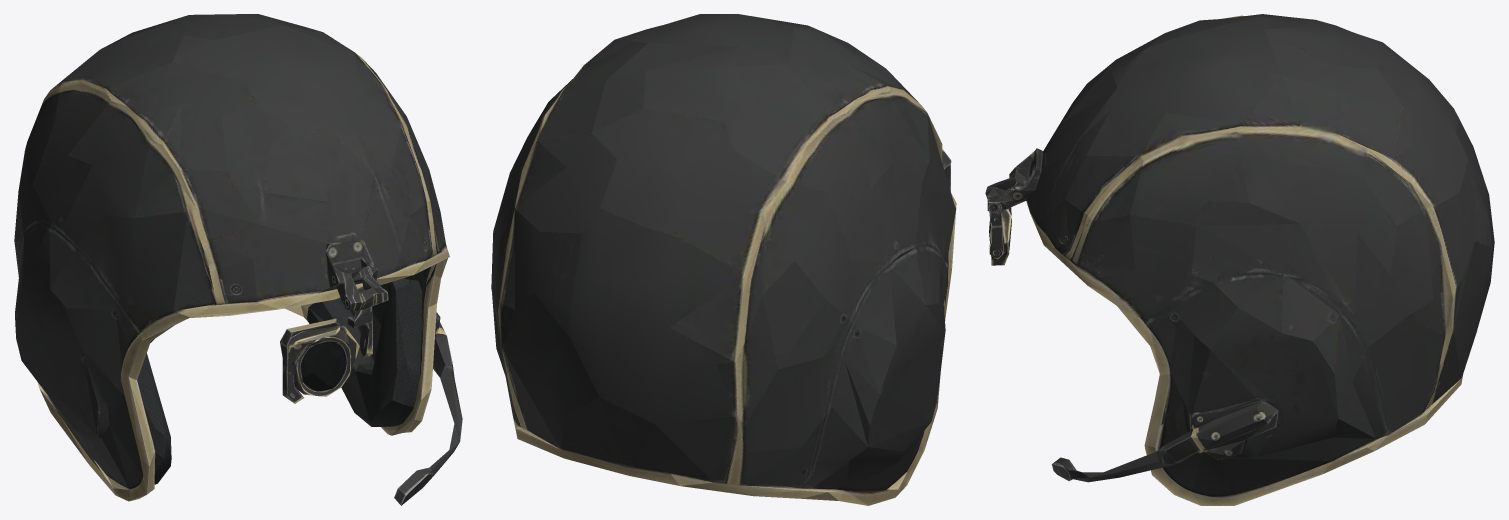
The model's file is banked-headset.glb.
3 renders of one model, left to right at view 1: azimuth 30°, elevation 25°; view 2: azimuth 150°, elevation 25°; view 3: azimuth 270°, elevation 25°, orthographic. The views are drawn at different scales.
Parts seen in each view (by area): view 1: Mesh_0; view 2: Mesh_0; view 3: Mesh_0.
Boxes of the visible parts, bbox=[...] form: Mesh_0: bbox=[14, 14, 462, 505]; Mesh_0: bbox=[491, 14, 956, 505]; Mesh_0: bbox=[985, 14, 1494, 505].
Bounding box in the file's own units: 0.2256 × 0.237 × 0.27.
Materials: 1 (1 with a texture image).
